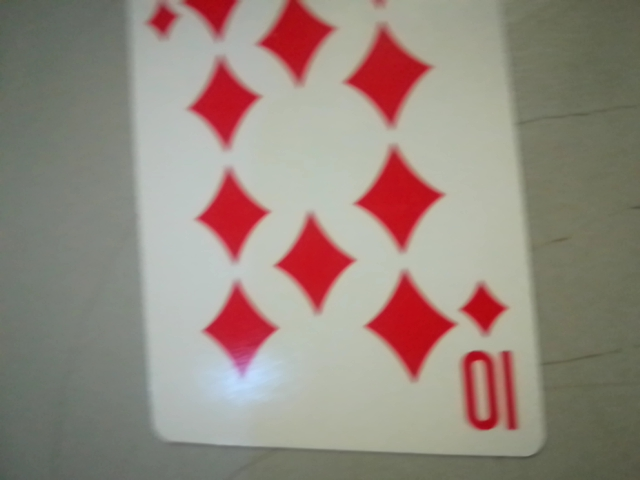fk 10: (448, 265, 537, 453)
